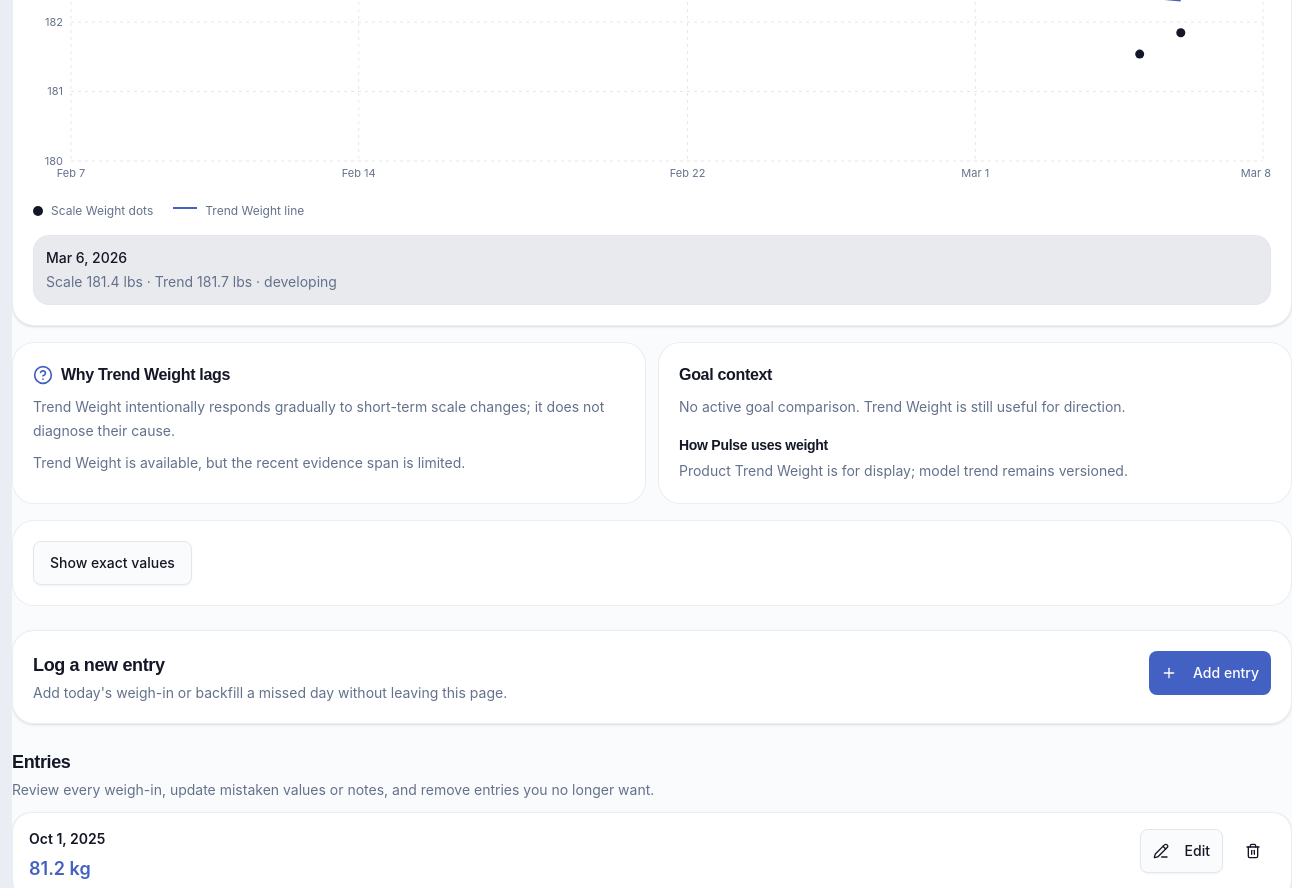
Test case: WeightHistoryPage › keeps the entry ledger separate from the server-owned exact trend table
The image size is (1292, 888).
(page scrolled)
Expected: the text "81.2 kg" is shown, [29,858,91,879]
Click the button "Show exact values" at (112, 563), box [33,541,192,585]
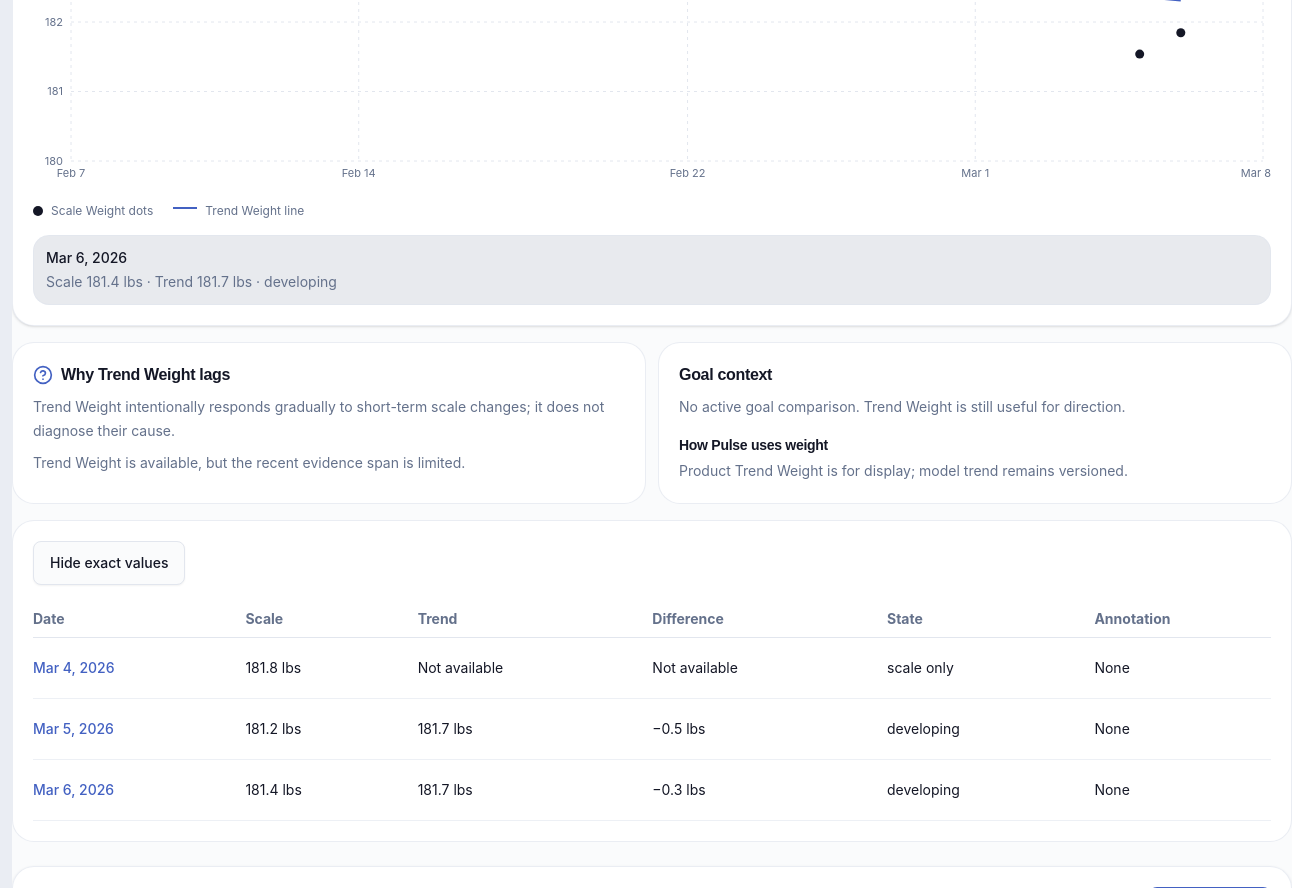
Result: the table named "Exact Scale and Trend Weight values" is shown at [33,601,1271,821]
Result: the button "Mar 6, 2026" is shown at [33,768,114,812]
